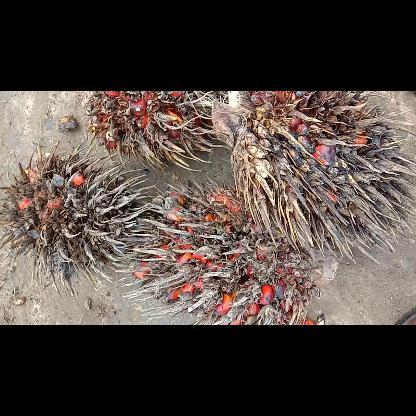Terlalu masak: (207, 91, 415, 267), (111, 178, 345, 324), (0, 134, 162, 306), (78, 90, 244, 174)
